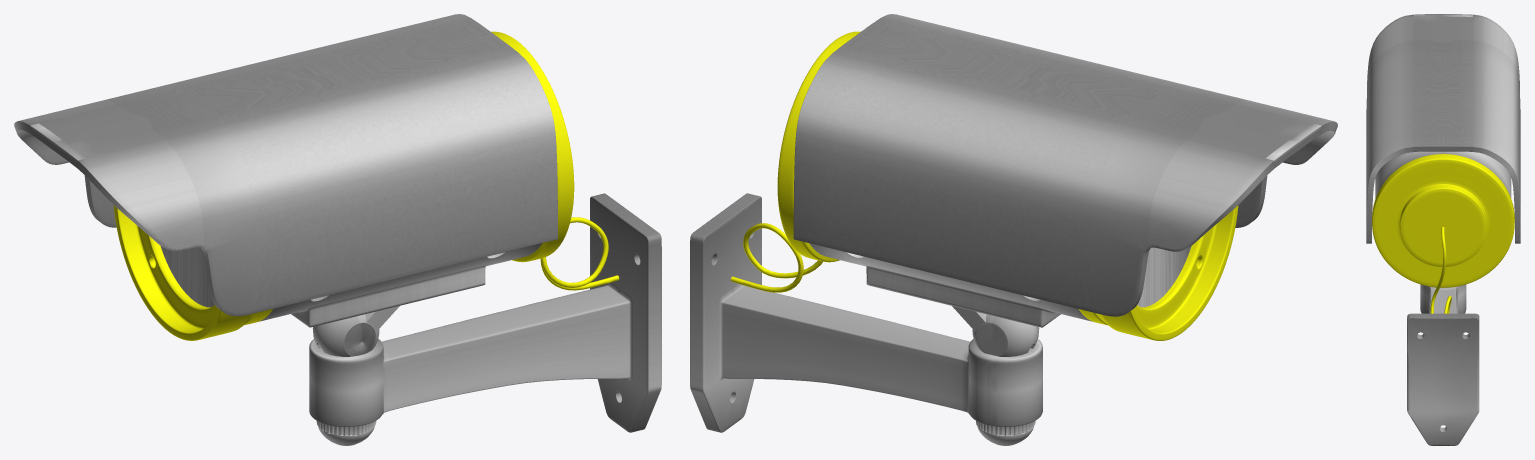
The model's file is shexiangtou.gltf.
3 renders of one model, left to right at view 1: azimuth 30°, elevation 25°; view 2: azimuth 150°, elevation 25°; view 3: azimuth 270°, elevation 25°, orthographic. The views are drawn at different scales.
Parts seen in each view (by area): view 1: Obj3d66-634700-36-703, Obj3d66-634700-1-678, Obj3d66-634700-37-749, Obj3d66-634700-39-537, Obj3d66-634700-38-339, Obj3d66-634700-40-91, Obj3d66-634700-5-730, Obj3d66-634700-41-322, Obj3d66-634700-8-390, Obj3d66-634700-6-274; view 2: Obj3d66-634700-36-703, Obj3d66-634700-1-678, Obj3d66-634700-37-749, Obj3d66-634700-39-537, Obj3d66-634700-38-339, Obj3d66-634700-5-730, Obj3d66-634700-40-91, Obj3d66-634700-41-322, Obj3d66-634700-8-390; view 3: Obj3d66-634700-36-703, Obj3d66-634700-38-339, Obj3d66-634700-1-678, Obj3d66-634700-39-537, Obj3d66-634700-41-322.
Part boxes in pixels (x1,y1,x2,y2): Obj3d66-634700-36-703: (14,14,557,316); Obj3d66-634700-1-678: (309,193,661,432); Obj3d66-634700-37-749: (113,205,272,340); Obj3d66-634700-39-537: (259,243,542,327); Obj3d66-634700-38-339: (491,31,574,262); Obj3d66-634700-40-91: (160,246,214,307); Obj3d66-634700-5-730: (312,306,399,356); Obj3d66-634700-41-322: (540,217,619,290); Obj3d66-634700-8-390: (316,421,376,445); Obj3d66-634700-6-274: (344,323,375,356); Obj3d66-634700-36-703: (793,14,1337,316); Obj3d66-634700-1-678: (690,193,1042,432); Obj3d66-634700-37-749: (1079,205,1238,340); Obj3d66-634700-39-537: (809,243,1092,327); Obj3d66-634700-38-339: (777,31,860,262); Obj3d66-634700-5-730: (952,306,1039,356); Obj3d66-634700-40-91: (1137,246,1191,307); Obj3d66-634700-41-322: (731,223,822,292); Obj3d66-634700-8-390: (976,420,1035,445); Obj3d66-634700-36-703: (1366,14,1520,243); Obj3d66-634700-38-339: (1372,154,1514,287); Obj3d66-634700-1-678: (1407,284,1479,445); Obj3d66-634700-39-537: (1375,151,1511,198); Obj3d66-634700-41-322: (1430,227,1451,313).
Bounding box in the file's own units: 0.5086 × 0.354 × 0.1916.
Materials: 4 (3 with a texture image).
